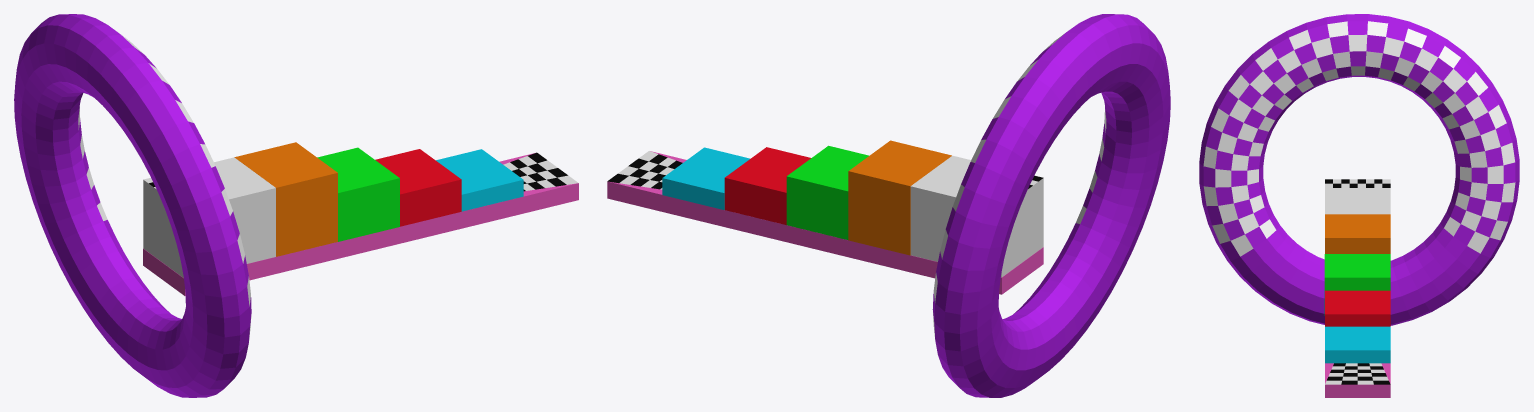
File: FinishBasamaklar2.fbx
The picture shows the model from 3 angles, left to right: view 1: azimuth 30°, elevation 25°; view 2: azimuth 150°, elevation 25°; view 3: azimuth 270°, elevation 25°; orthographic projection. The views are drawn at different scales.
Parts seen in each view (by area): view 1: Torus, Cube, Cube.004, Cube.005, Cube.003, Cube.001, Cube.002; view 2: Torus, Cube, Cube.004, Cube.005, Cube.003, Cube.001, Cube.002; view 3: Torus, Cube.004, Cube.002, Cube.003, Cube.001, Cube.005, Cube.
Boxes of the visible parts, x1=… form: Torus: x1=14, y1=14, x2=251, y2=397; Cube: x1=143, y1=152, x2=578, y2=295; Cube.004: x1=234, y1=142, x2=337, y2=256; Cube.005: x1=143, y1=157, x2=275, y2=277; Cube.003: x1=317, y1=147, x2=399, y2=241; Cube.001: x1=375, y1=149, x2=461, y2=226; Cube.002: x1=436, y1=149, x2=523, y2=211; Torus: x1=932, y1=14, x2=1170, y2=397; Cube: x1=607, y1=151, x2=1043, y2=294; Cube.004: x1=848, y1=140, x2=951, y2=255; Cube.005: x1=910, y1=155, x2=1043, y2=277; Cube.003: x1=786, y1=145, x2=868, y2=239; Cube.001: x1=724, y1=147, x2=810, y2=224; Cube.002: x1=662, y1=147, x2=749, y2=209; Torus: x1=1199, y1=14, x2=1519, y2=325; Cube.004: x1=1325, y1=214, x2=1390, y2=253; Cube.002: x1=1325, y1=326, x2=1390, y2=363; Cube.003: x1=1324, y1=254, x2=1390, y2=315; Cube.001: x1=1325, y1=290, x2=1390, y2=326; Cube.005: x1=1325, y1=179, x2=1390, y2=214; Cube: x1=1325, y1=363, x2=1390, y2=397.
Size of the model in its own units: 2893 by 2140 by 2148.
